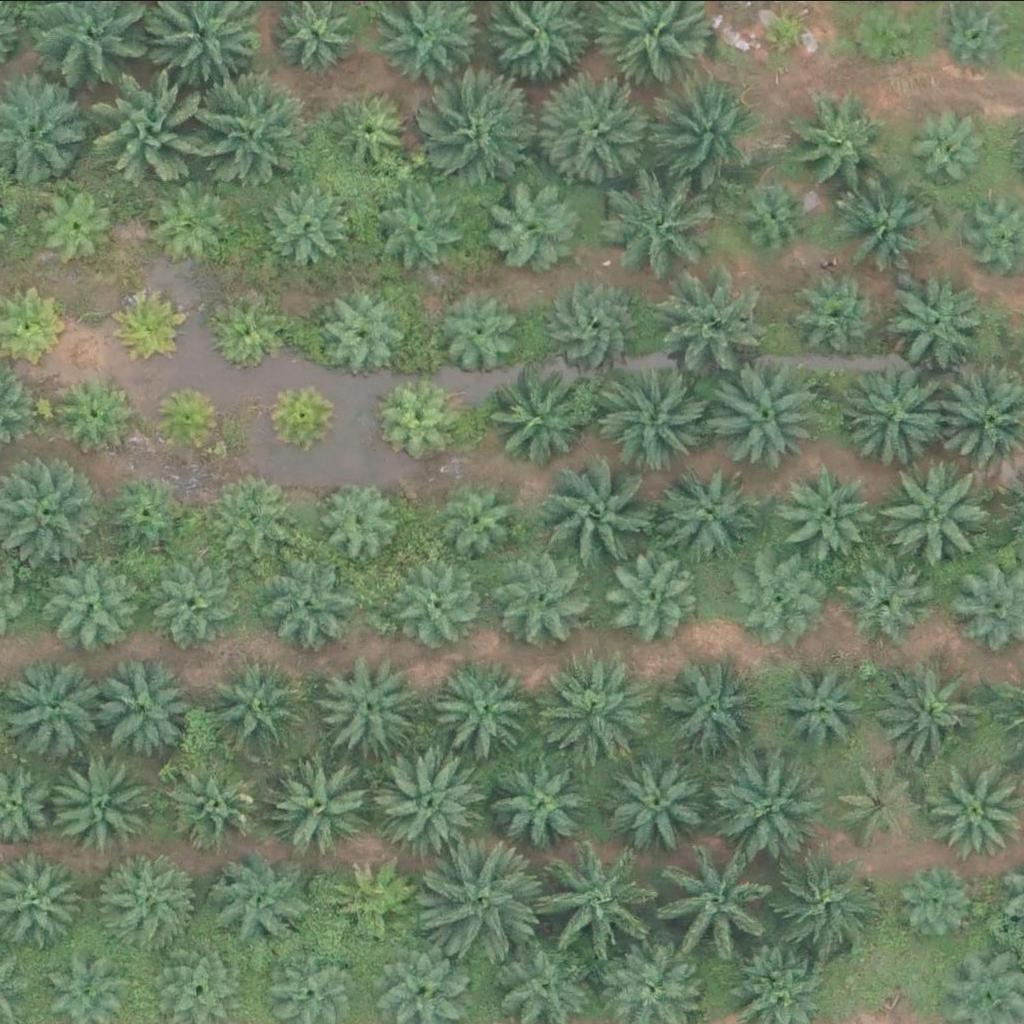Kelapa_Sawit: (706, 363, 820, 476), (539, 77, 652, 190), (837, 366, 950, 479), (436, 654, 549, 767), (545, 653, 658, 766), (602, 743, 715, 856), (196, 70, 309, 183), (428, 844, 541, 957), (641, 78, 755, 190), (602, 361, 716, 473), (879, 459, 993, 571), (100, 65, 214, 177), (430, 80, 543, 192), (647, 267, 760, 379), (541, 463, 654, 575), (380, 743, 493, 855), (718, 746, 831, 858), (553, 843, 666, 955), (671, 843, 784, 955), (769, 848, 882, 960), (793, 96, 894, 196), (842, 182, 943, 282), (614, 182, 715, 282), (890, 272, 991, 372), (490, 369, 591, 469), (658, 466, 759, 566), (495, 545, 596, 645), (315, 656, 416, 756), (888, 662, 989, 762), (495, 749, 596, 849), (7, 660, 108, 760), (90, 655, 191, 755), (263, 755, 364, 855), (207, 656, 308, 756), (259, 549, 360, 649), (55, 753, 156, 853), (92, 849, 193, 949), (480, 175, 580, 275), (548, 277, 648, 377), (210, 848, 310, 948), (663, 656, 764, 755), (329, 87, 417, 175), (731, 173, 819, 261), (322, 292, 410, 380), (791, 466, 879, 554), (394, 566, 482, 654), (102, 470, 190, 558), (220, 470, 308, 558), (30, 184, 118, 272), (153, 179, 241, 267), (58, 560, 146, 648), (150, 559, 238, 647), (379, 188, 468, 275), (834, 756, 923, 843), (438, 291, 526, 378), (800, 269, 888, 356), (318, 475, 406, 562), (442, 478, 530, 565), (837, 564, 925, 651), (725, 555, 813, 642), (610, 552, 698, 639), (776, 661, 864, 748), (897, 857, 985, 944), (262, 181, 350, 268), (172, 763, 260, 850), (332, 855, 420, 942), (208, 298, 284, 373), (917, 115, 993, 190), (388, 381, 464, 456), (261, 376, 337, 451), (112, 283, 188, 358), (54, 373, 129, 448), (151, 381, 226, 456), (753, 1, 816, 63)
